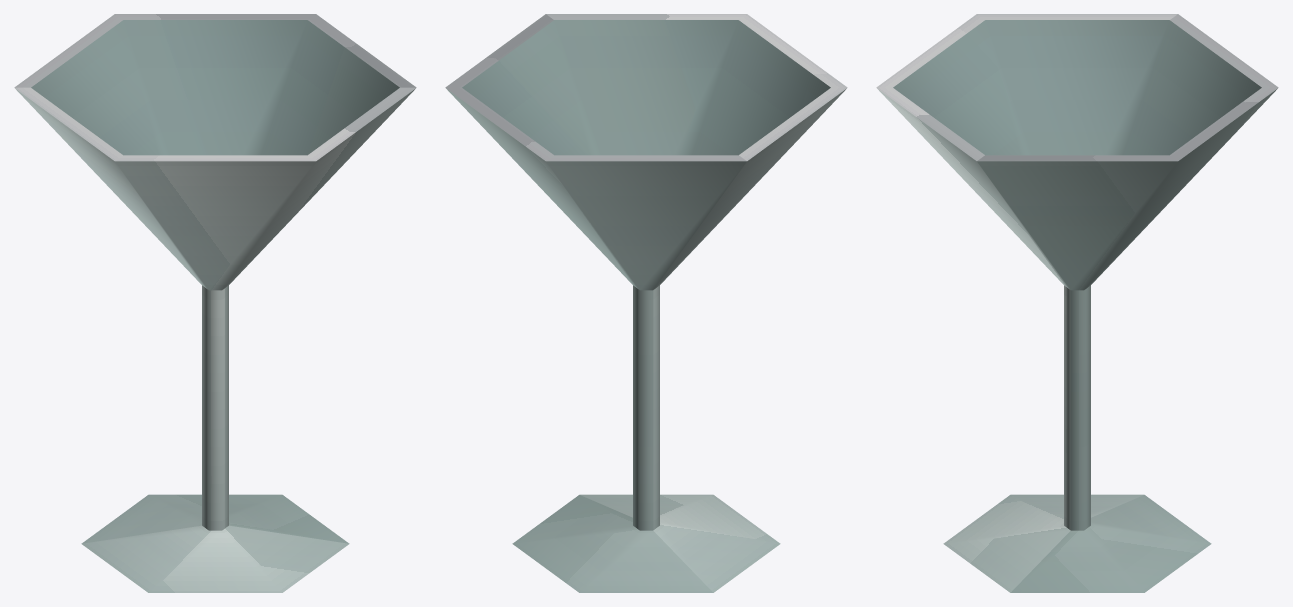
Rendered from martini-glass.obj.
3 views of the same model, side by side, from view 1: azimuth 30°, elevation 25°; view 2: azimuth 150°, elevation 25°; view 3: azimuth 270°, elevation 25° (orthographic).
Parts seen in each view (by area): view 1: martini-glass; view 2: martini-glass; view 3: martini-glass.
Part boxes in pixels (x1,y1,x2,y2): martini-glass: [14, 14, 416, 592]; martini-glass: [445, 14, 847, 592]; martini-glass: [876, 14, 1278, 592].
Size of the model in its own units: 0.1039 by 0.15 by 0.12.
Materials: 1 (1 with a texture image).
